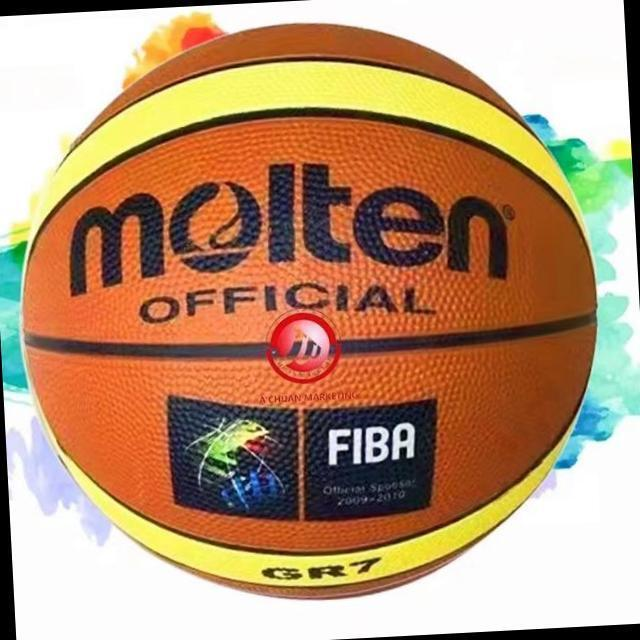ball: (7, 4, 618, 618)
